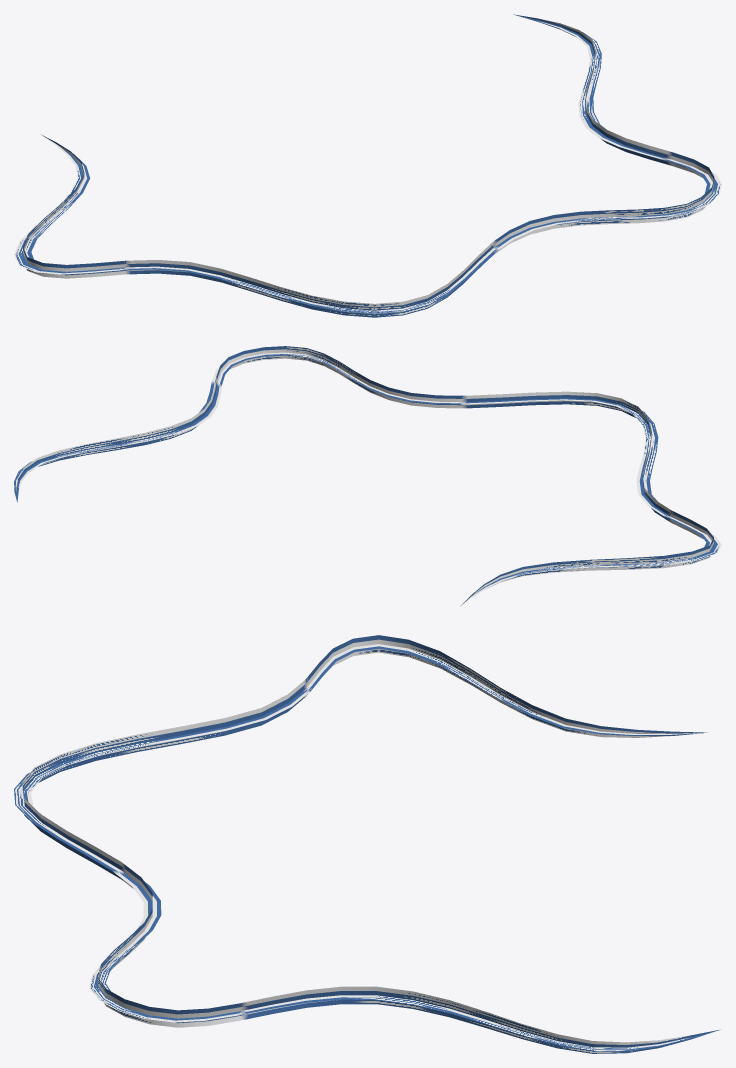
Rendered from Rui_DomeEnd1.fbx.
3 renders of one model, top to bottom at view 1: azimuth 30°, elevation 25°; view 2: azimuth 150°, elevation 25°; view 3: azimuth 270°, elevation 25°, orthographic. The views are drawn at different scales.
Visible parts, largest first — view 1: SM_e_Plc_P1007_DomeEnd001; view 2: SM_e_Plc_P1007_DomeEnd001; view 3: SM_e_Plc_P1007_DomeEnd001.
Part boxes in pixels (x1,y1,x2,y2): SM_e_Plc_P1007_DomeEnd001: [14, 14, 721, 317]; SM_e_Plc_P1007_DomeEnd001: [14, 346, 721, 606]; SM_e_Plc_P1007_DomeEnd001: [14, 635, 720, 1053].
Size of the model in its own units: 502 by 9.97 by 364.
